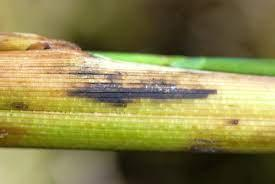Stem Rot: (0, 48, 275, 156), (57, 47, 226, 136)
